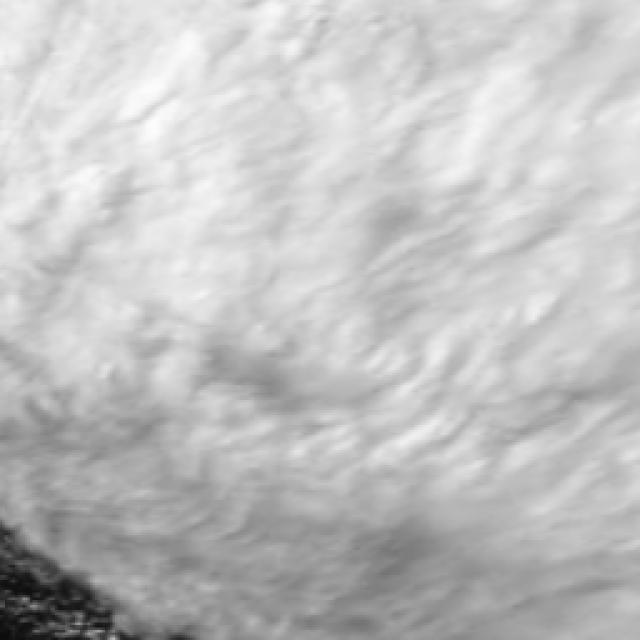CB: (2, 3, 640, 495), (215, 496, 638, 638)
